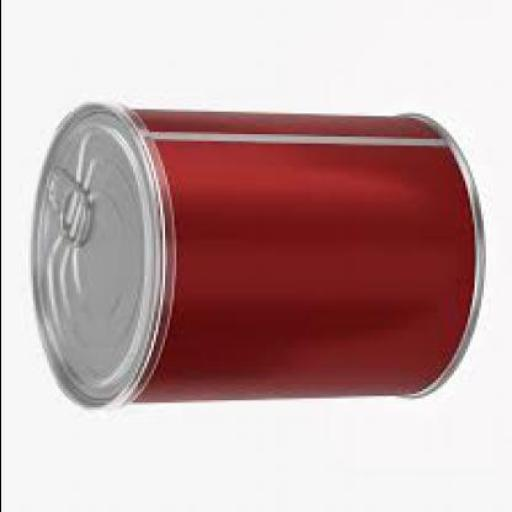metal: (27, 102, 483, 415)
